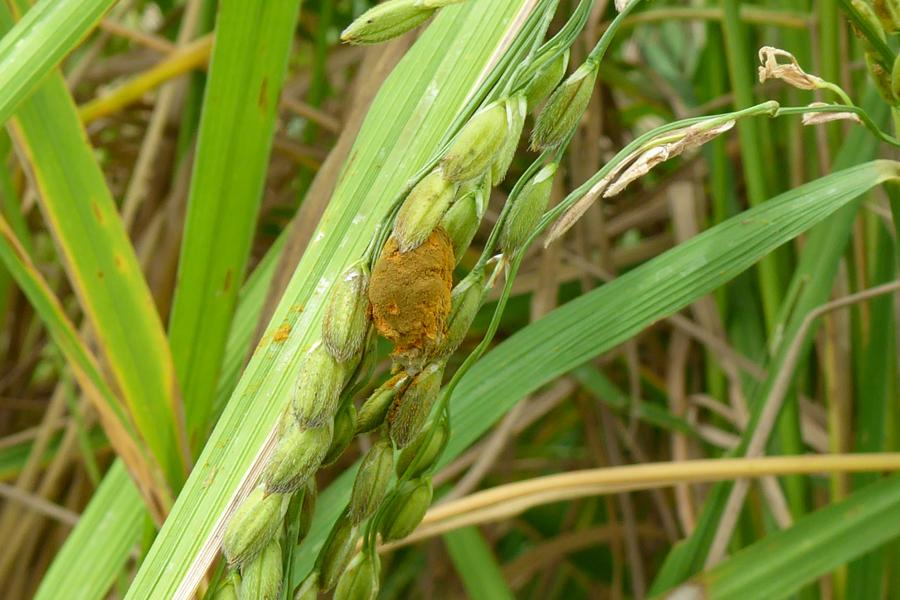False Smut: (352, 212, 470, 378)
